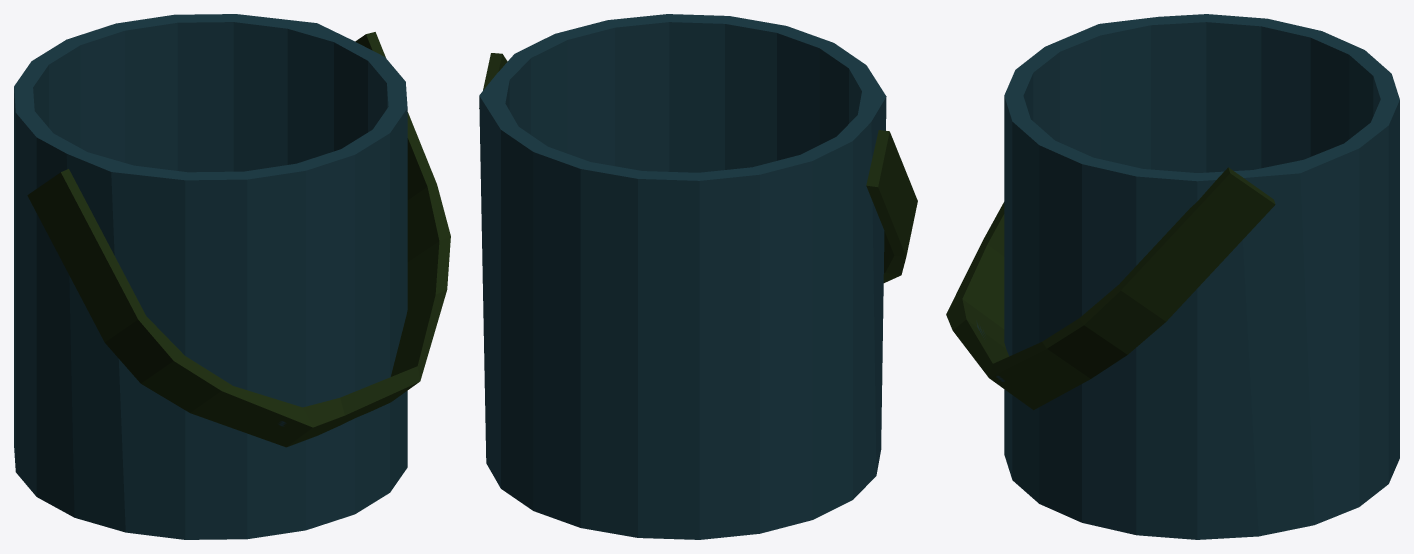
File: bucket.fbx
The picture shows the model from 3 angles, left to right: view 1: azimuth 30°, elevation 25°; view 2: azimuth 150°, elevation 25°; view 3: azimuth 270°, elevation 25°; orthographic projection.
Parts seen in each view (by area): view 1: bucket; view 2: bucket; view 3: bucket.
Boxes of the visible parts, x1=… form: bucket: x1=14, y1=14, x2=450, y2=539; bucket: x1=479, y1=14, x2=917, y2=539; bucket: x1=946, y1=14, x2=1399, y2=539.
Size of the model in its own units: 37.07 by 35.16 by 38.98.
